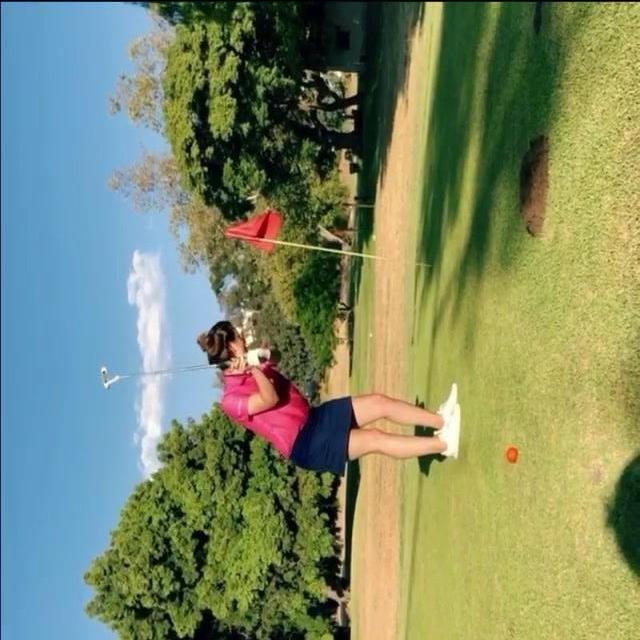golf club-handle: (101, 351, 265, 388)
golf club-head: (101, 364, 110, 388)
